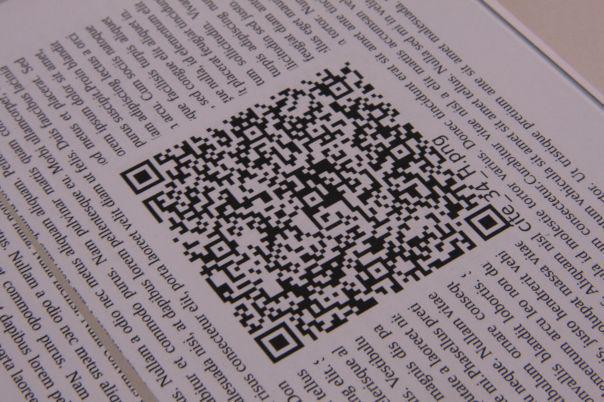Finder pattern: (253, 317, 307, 362), (466, 203, 515, 243), (121, 159, 165, 194)
